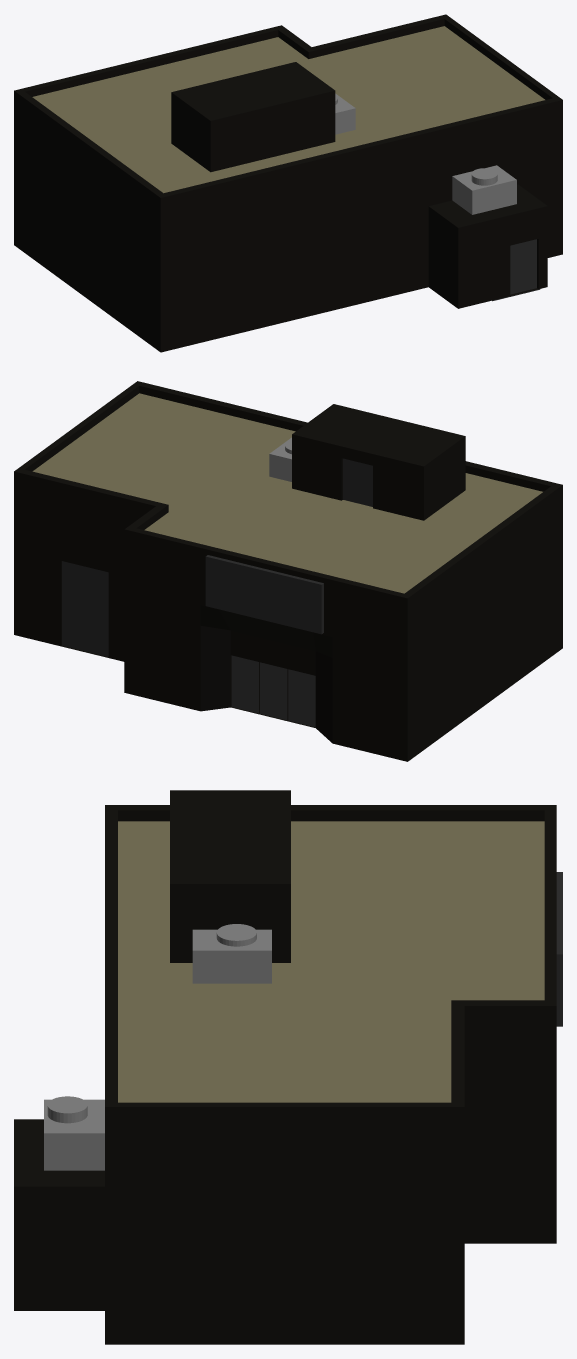
File: BuildingB_02 (1).fbx
3 renders of one model, top to bottom at view 1: azimuth 30°, elevation 25°; view 2: azimuth 150°, elevation 25°; view 3: azimuth 270°, elevation 25°, orthographic. The views are drawn at different scales.
Visible parts, largest first — view 1: Building; view 2: Building; view 3: Building.
Boxes of the visible parts, box(x1,y1,x2,y2) form: Building: box(14, 14, 562, 352); Building: box(14, 381, 562, 761); Building: box(14, 790, 562, 1344).
Bounding box in the file's own units: 2878 × 1375 × 2211.
